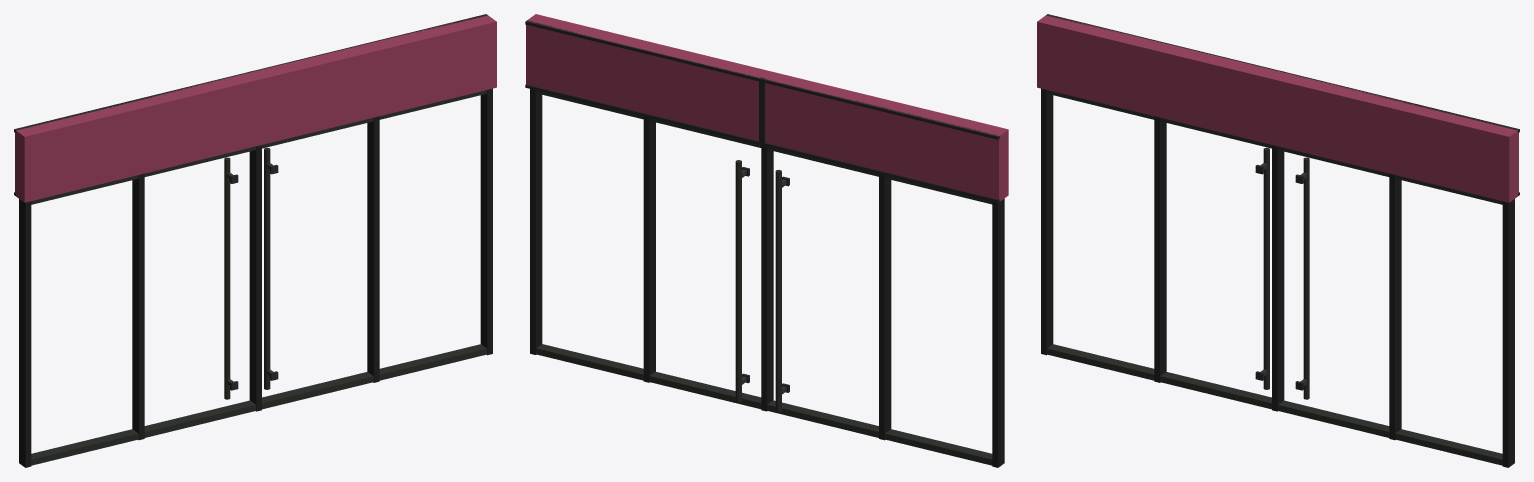
File: frame.glb
3 renders of one model, left to right at view 1: azimuth 30°, elevation 25°; view 2: azimuth 150°, elevation 25°; view 3: azimuth 330°, elevation 25°, orthographic.
Visible parts, largest first — view 1: Surface; view 2: Surface; view 3: Surface.
Part boxes in pixels (x1,y1,x2,y2): Surface: (14, 14, 496, 467); Surface: (525, 14, 1008, 467); Surface: (1037, 14, 1519, 467).
Bounding box in the file's own units: 4.5 × 3.03 × 0.2488.
